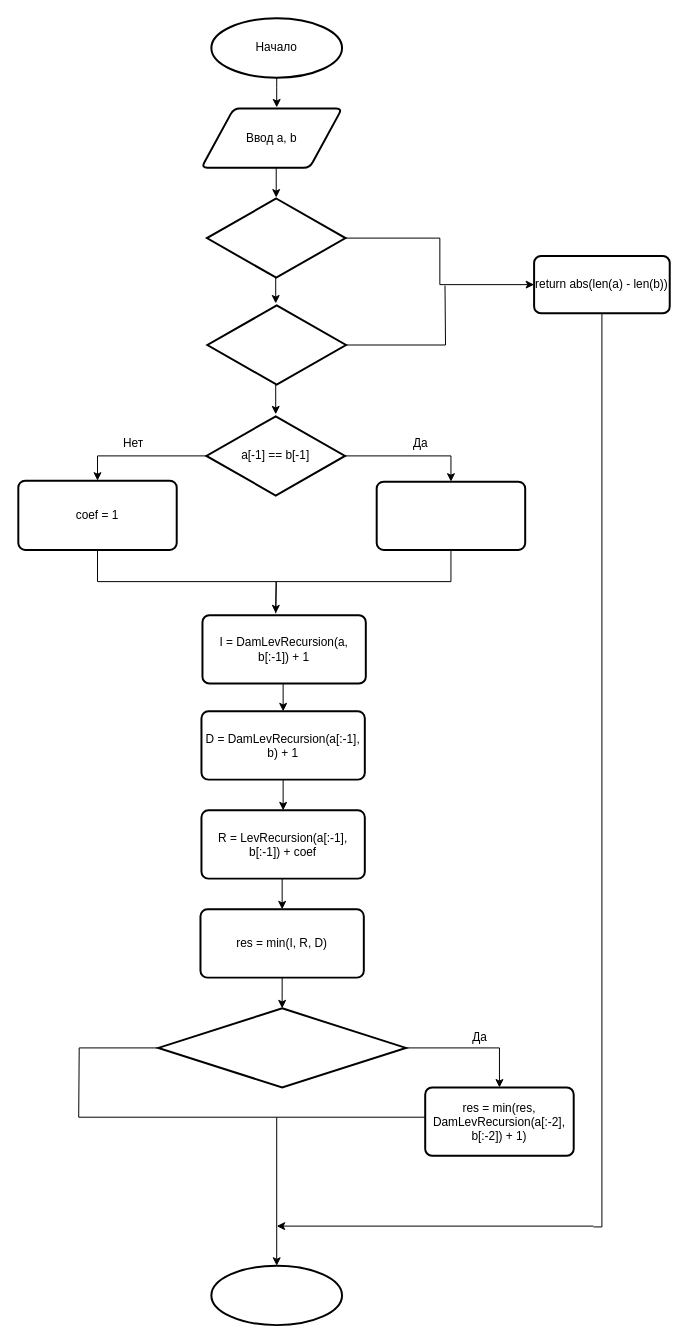
This 687x1342 diagram has some shape labels left out. The centre of each missing label's shape, as x and y in pixels:
"coef = 0" belongs at (450,515).
"len(a) == 0" belongs at (275,237).
"len(a) >= 2 and len(b) >= 2 and a[-1] == b[-2] and a[-2] == b[-1]" belongs at (281,1047).
"len(b) == 0" belongs at (276,344).
"Конец" belongs at (276,1295).
